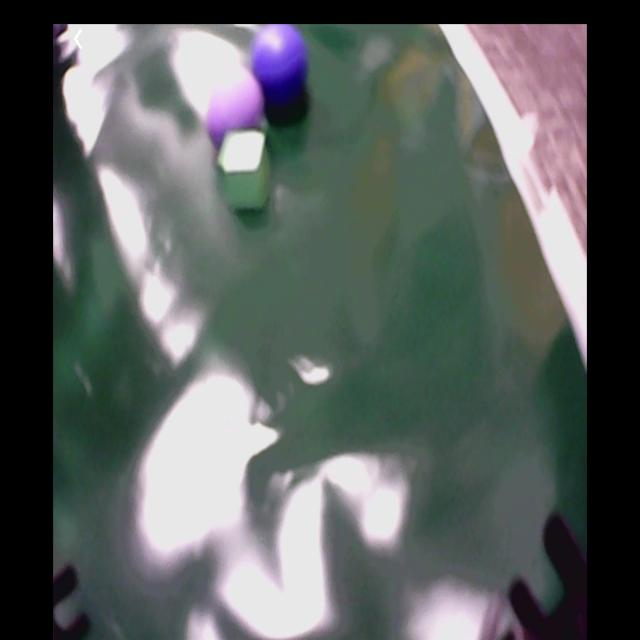ball: (209, 68, 264, 148), (254, 28, 308, 100)
